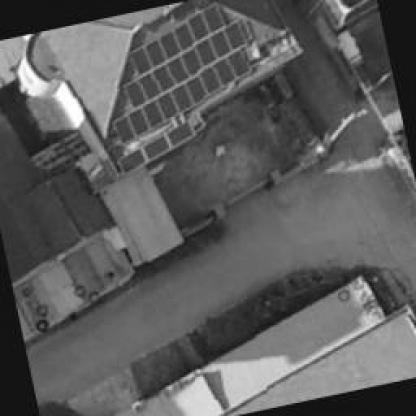solar-pv-panel: (113, 2, 251, 144), (117, 120, 194, 173)
